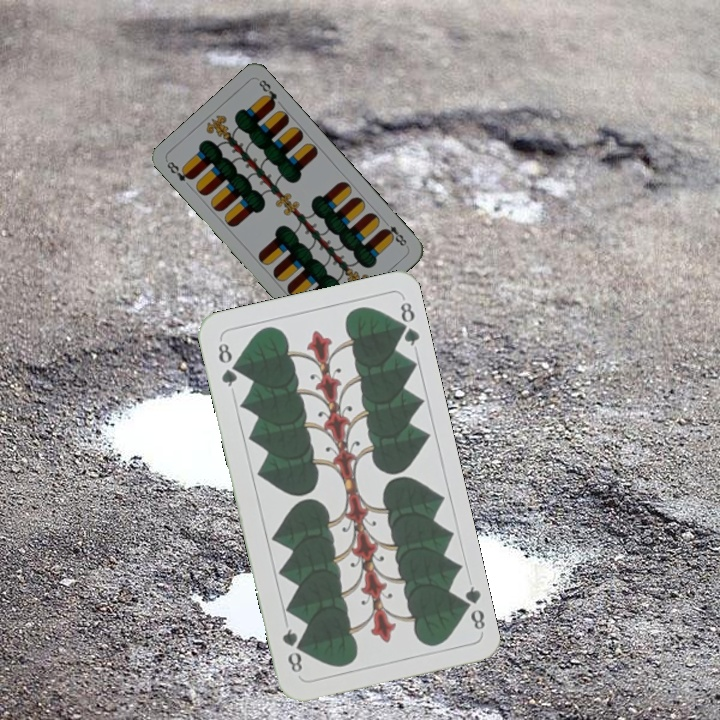E8: (379, 216, 410, 250), (163, 157, 196, 184)
G8: (455, 582, 488, 633), (214, 338, 241, 390)
